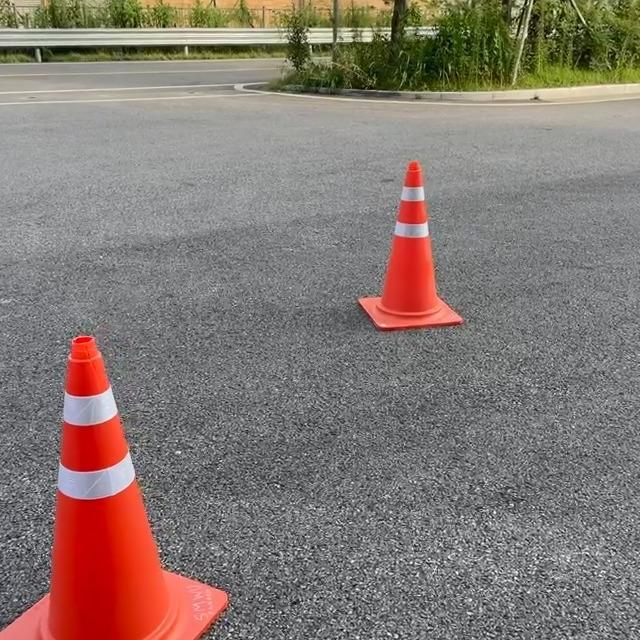fallen_object: (0, 284, 272, 640), (306, 115, 454, 338)
